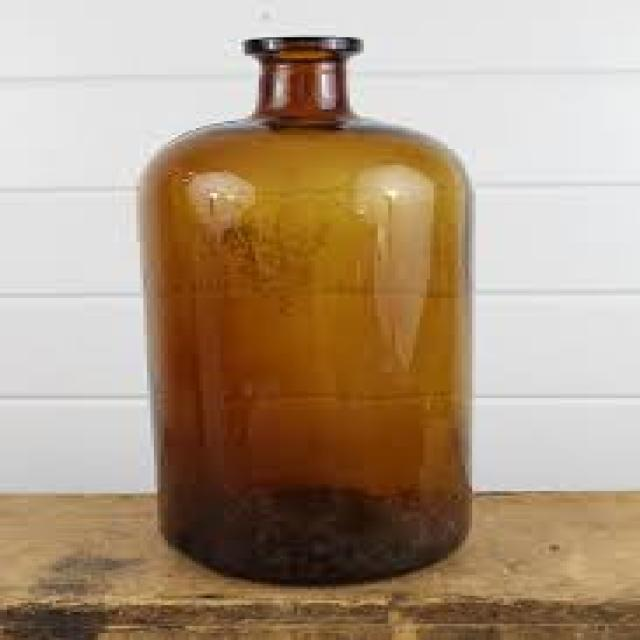glass: (133, 33, 469, 582)
